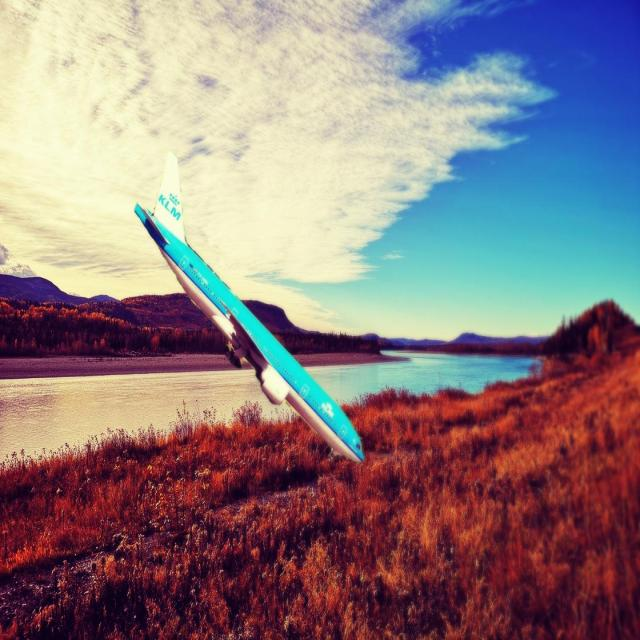airplane: (133, 150, 365, 464)
